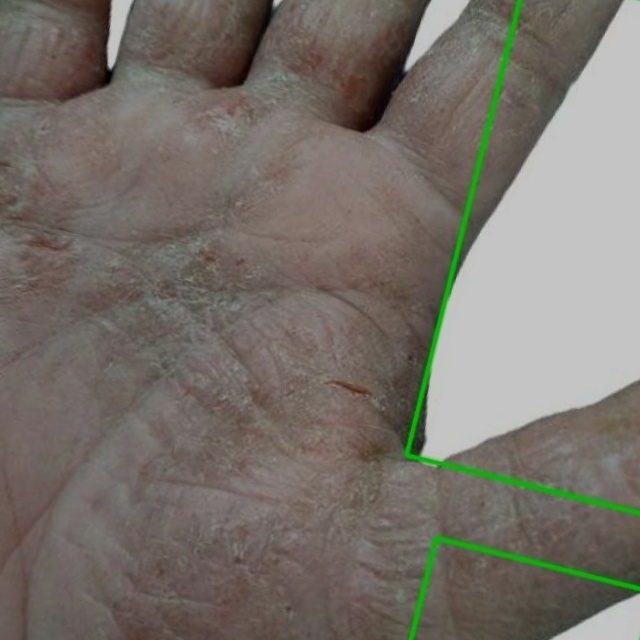Contact Dermatitis: (406, 0, 639, 513)
